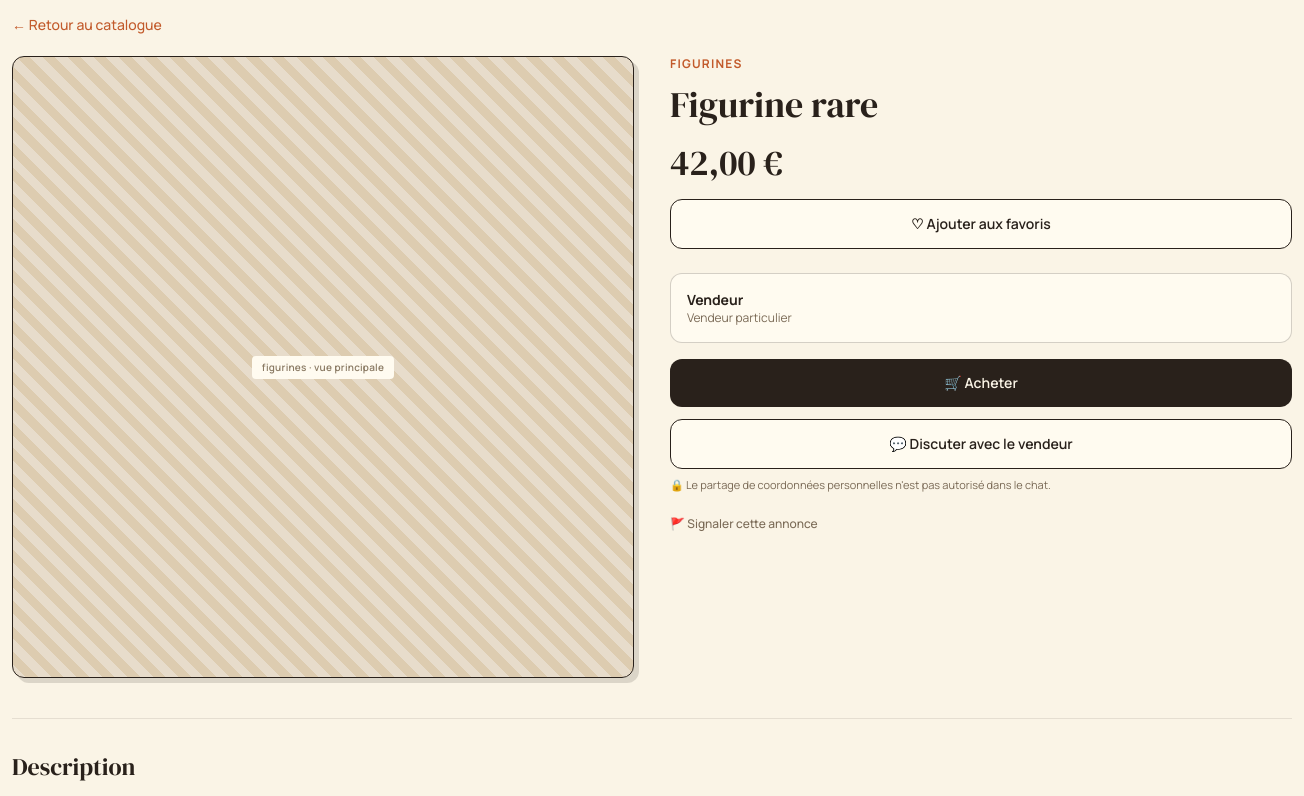
Test: ListingDetailPage › submits a report and shows a confirmation message
Click the button "🚩 Signaler cette annonce" at (744, 524), box [670,516,818,532]
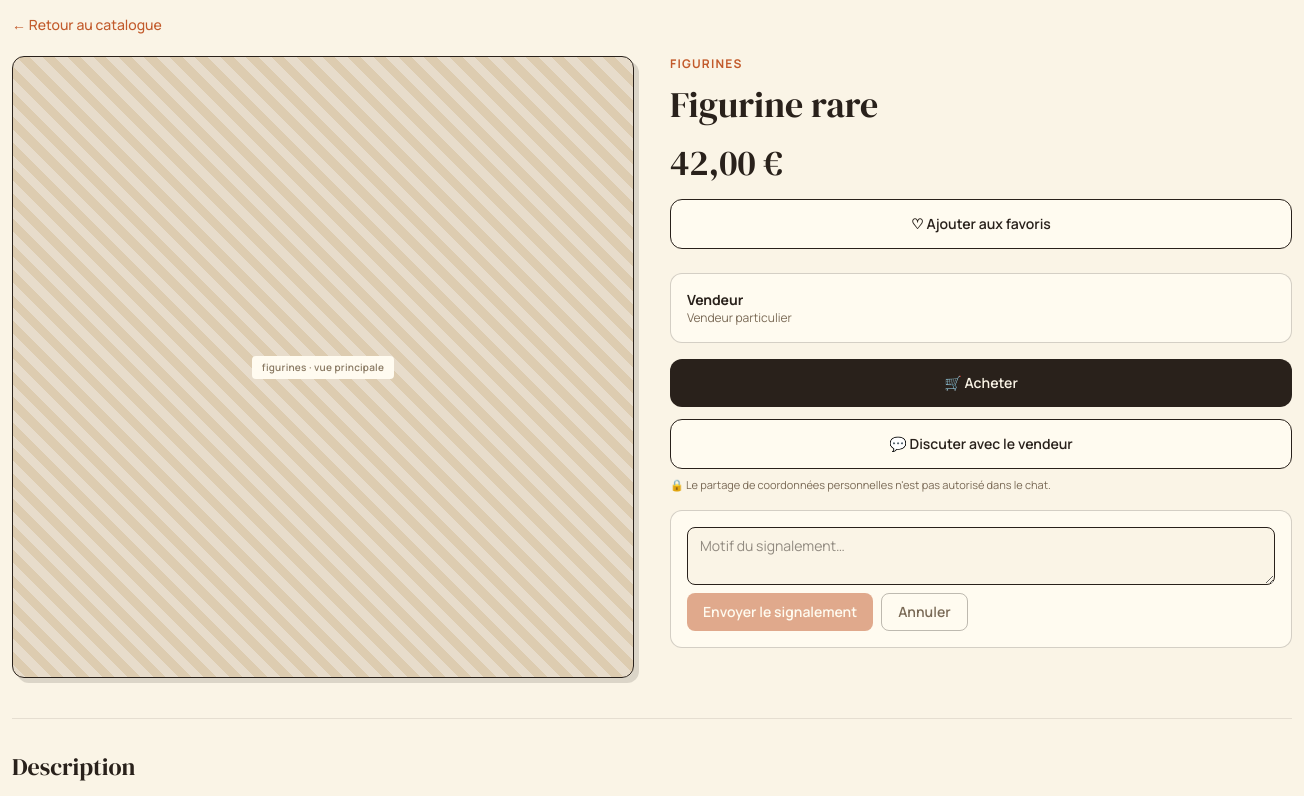
Type "Contenu suspect" into the text box with placeholder "Motif du signalement…" at (981, 556), box [687,526,1275,584]
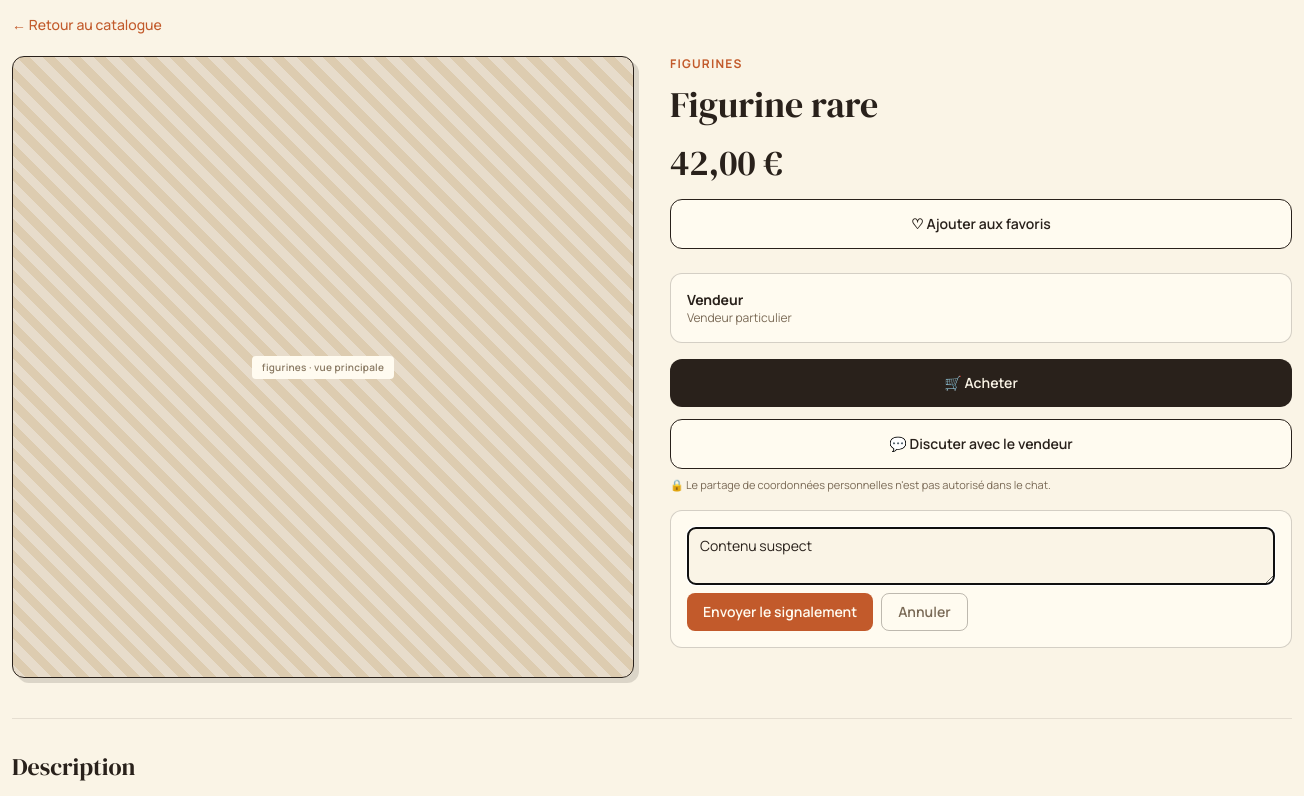
Click the button "Envoyer le signalement" at (780, 612), box [687,592,873,630]
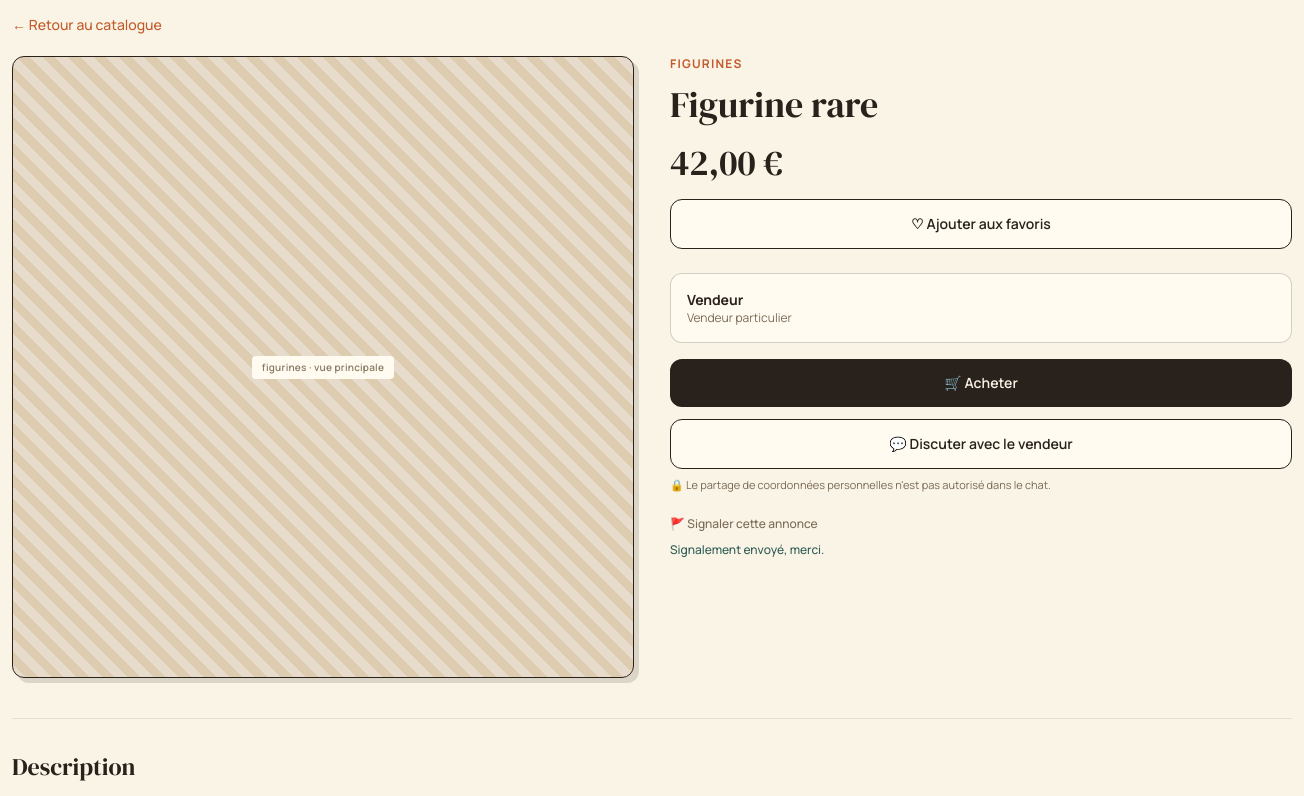
Now the text "Signalement envoyé, merci." is shown, box [670,540,824,558]
